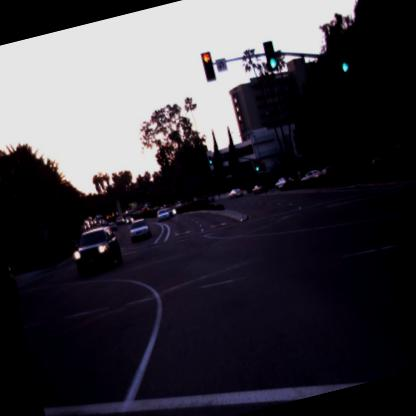trafficlight: (197, 47, 221, 84), (331, 34, 353, 74), (262, 36, 282, 73), (253, 158, 261, 172), (207, 152, 214, 166)
